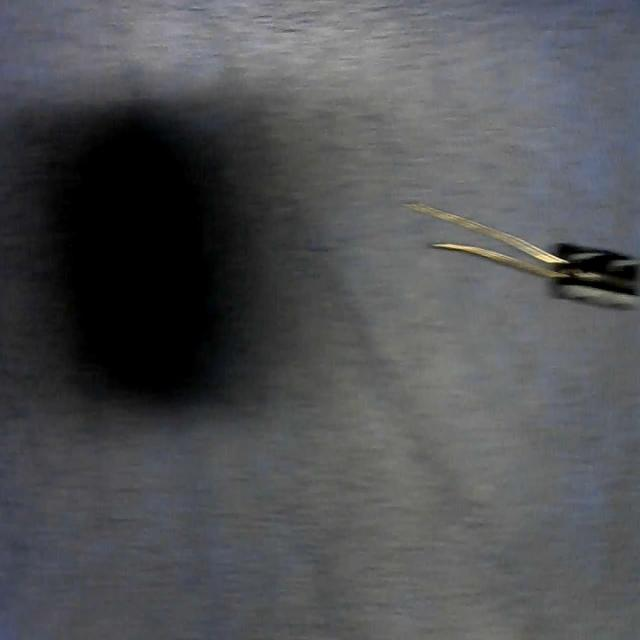capacitor: (415, 199, 640, 305)
